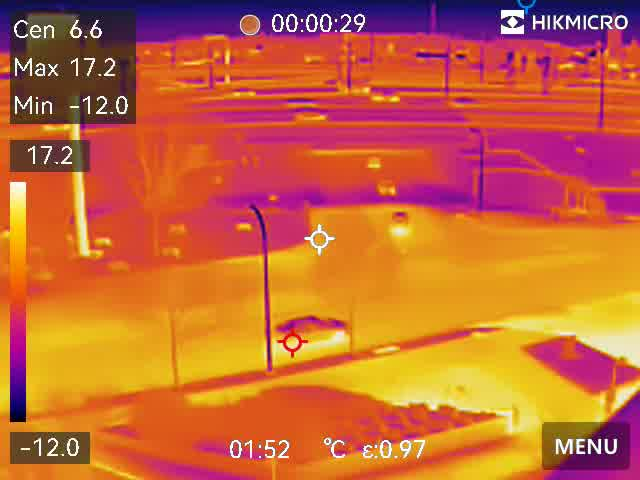smallCar: (271, 316, 355, 342)
vehicle: (386, 209, 409, 238), (289, 109, 328, 124), (372, 179, 400, 199), (368, 90, 400, 107), (225, 83, 257, 99), (361, 153, 384, 170)
